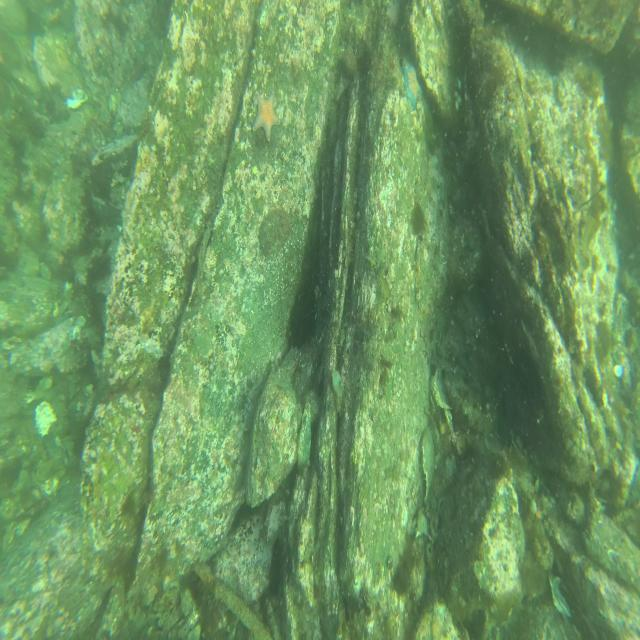starfish: (399, 56, 425, 112), (255, 91, 282, 142)
